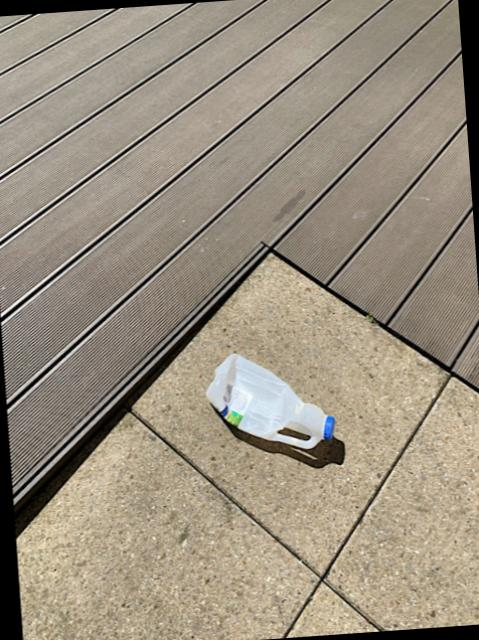plastic: (204, 352, 331, 447)
